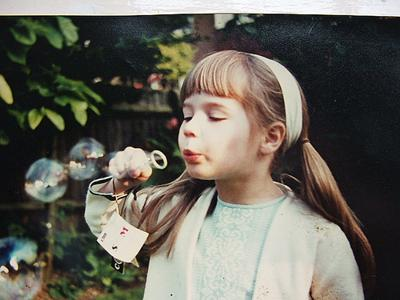person: (86, 50, 374, 300)
